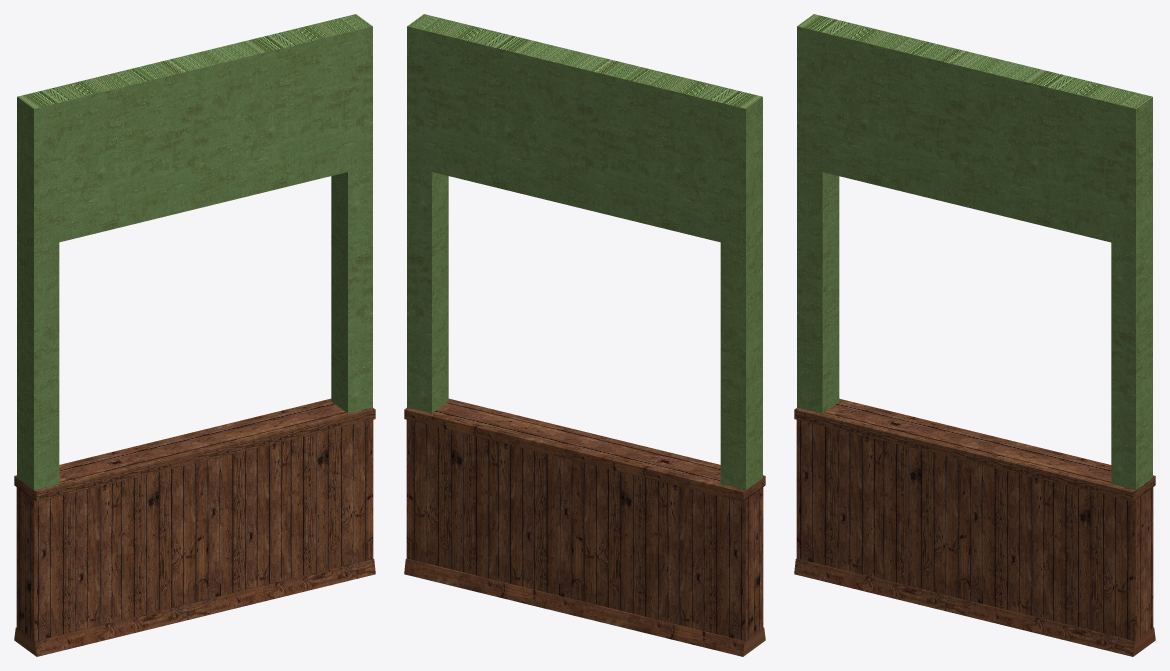
File: Office02WallBigWindow.fbx
3 views of the same model, side by side, from view 1: azimuth 30°, elevation 25°; view 2: azimuth 150°, elevation 25°; view 3: azimuth 330°, elevation 25° (orthographic).
Parts seen in each view (by area): view 1: Cube.036; view 2: Cube.036; view 3: Cube.036.
Boxes of the visible parts, <box> form: Cube.036: <box>14,14,375,656</box>; Cube.036: <box>404,14,765,656</box>; Cube.036: <box>794,14,1155,656</box>.
Size of the model in its own units: 650 by 1000 by 75.3.
